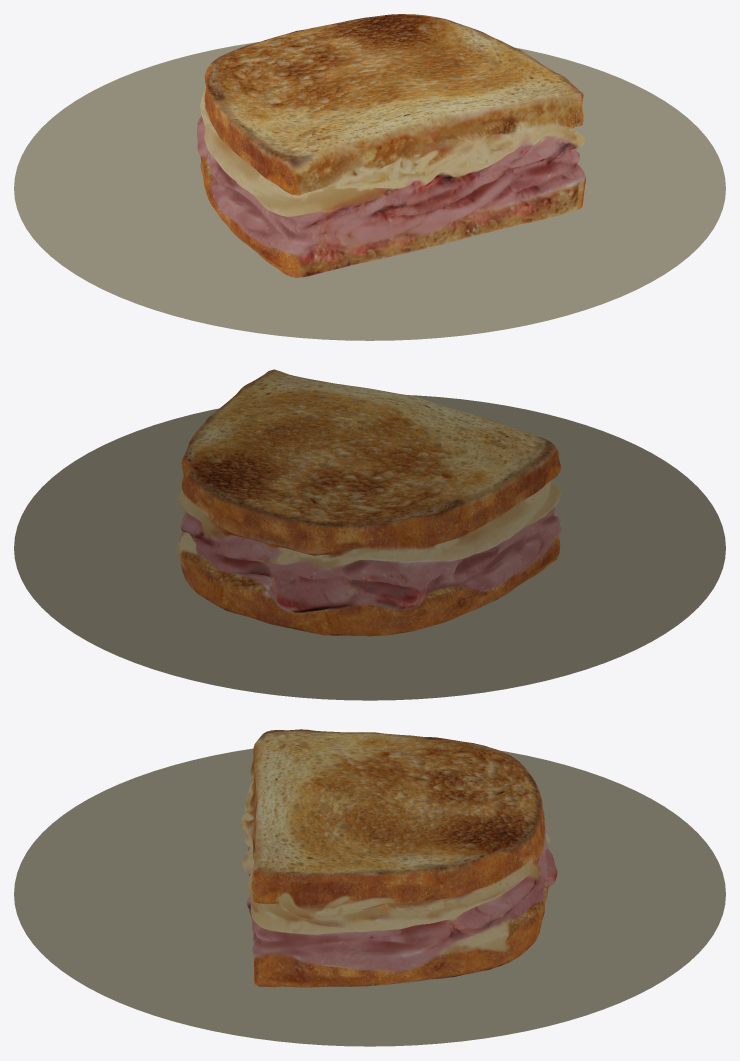
Rendered from sandwich.obj.
3 renders of one model, top to bottom at view 1: azimuth 30°, elevation 25°; view 2: azimuth 150°, elevation 25°; view 3: azimuth 270°, elevation 25°, orthographic.
Parts seen in each view (by area): view 1: 13931_Reuben_Sandwich_on_Plate_v2_L1; view 2: 13931_Reuben_Sandwich_on_Plate_v2_L1; view 3: 13931_Reuben_Sandwich_on_Plate_v2_L1.
Part boxes in pixels (box(x1,y1,x2,y2)): 13931_Reuben_Sandwich_on_Plate_v2_L1: box(14, 14, 725, 340); 13931_Reuben_Sandwich_on_Plate_v2_L1: box(14, 369, 725, 700); 13931_Reuben_Sandwich_on_Plate_v2_L1: box(14, 729, 725, 1046).
Size of the model in its own units: 19.25 by 4.81 by 19.25.
2 materials, 1 textured.
